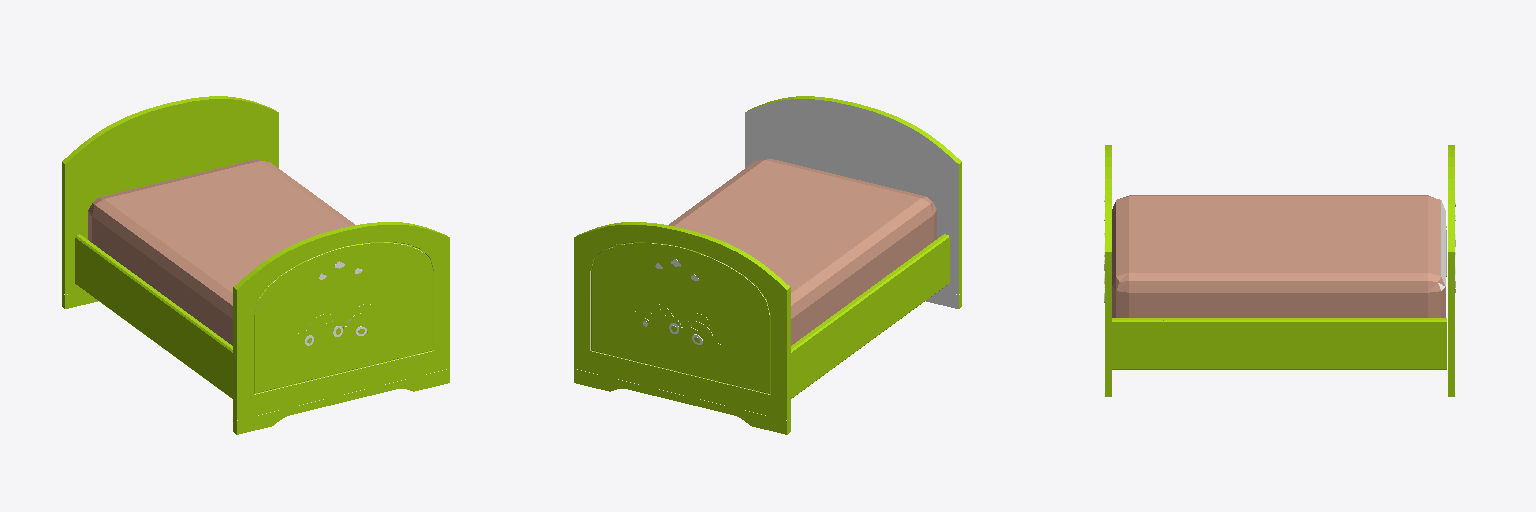
Rendered from bed04.obj.
3 views of the same model, side by side, from view 1: azimuth 30°, elevation 25°; view 2: azimuth 150°, elevation 25°; view 3: azimuth 270°, elevation 25° (orthographic).
Visible parts, largest first — view 1: Object.2, Object.1, Object.4, Object.5; view 2: Object.2, Object.1, Object.3, Object.6; view 3: Object.2, Object.1.
Boxes of the visible parts, x1=… form: Object.2: x1=75, y1=160, x2=449, y2=419; Object.1: x1=62, y1=96, x2=278, y2=294; Object.4: x1=233, y1=369, x2=449, y2=434; Object.5: x1=296, y1=304, x2=387, y2=345; Object.2: x1=669, y1=96, x2=961, y2=398; Object.1: x1=574, y1=222, x2=790, y2=419; Object.3: x1=574, y1=369, x2=790, y2=434; Object.6: x1=633, y1=304, x2=723, y2=356; Object.2: x1=1105, y1=145, x2=1446, y2=382; Object.1: x1=1448, y1=145, x2=1454, y2=382.
Bounding box in the file's own units: 9180 × 7313 × 13155.